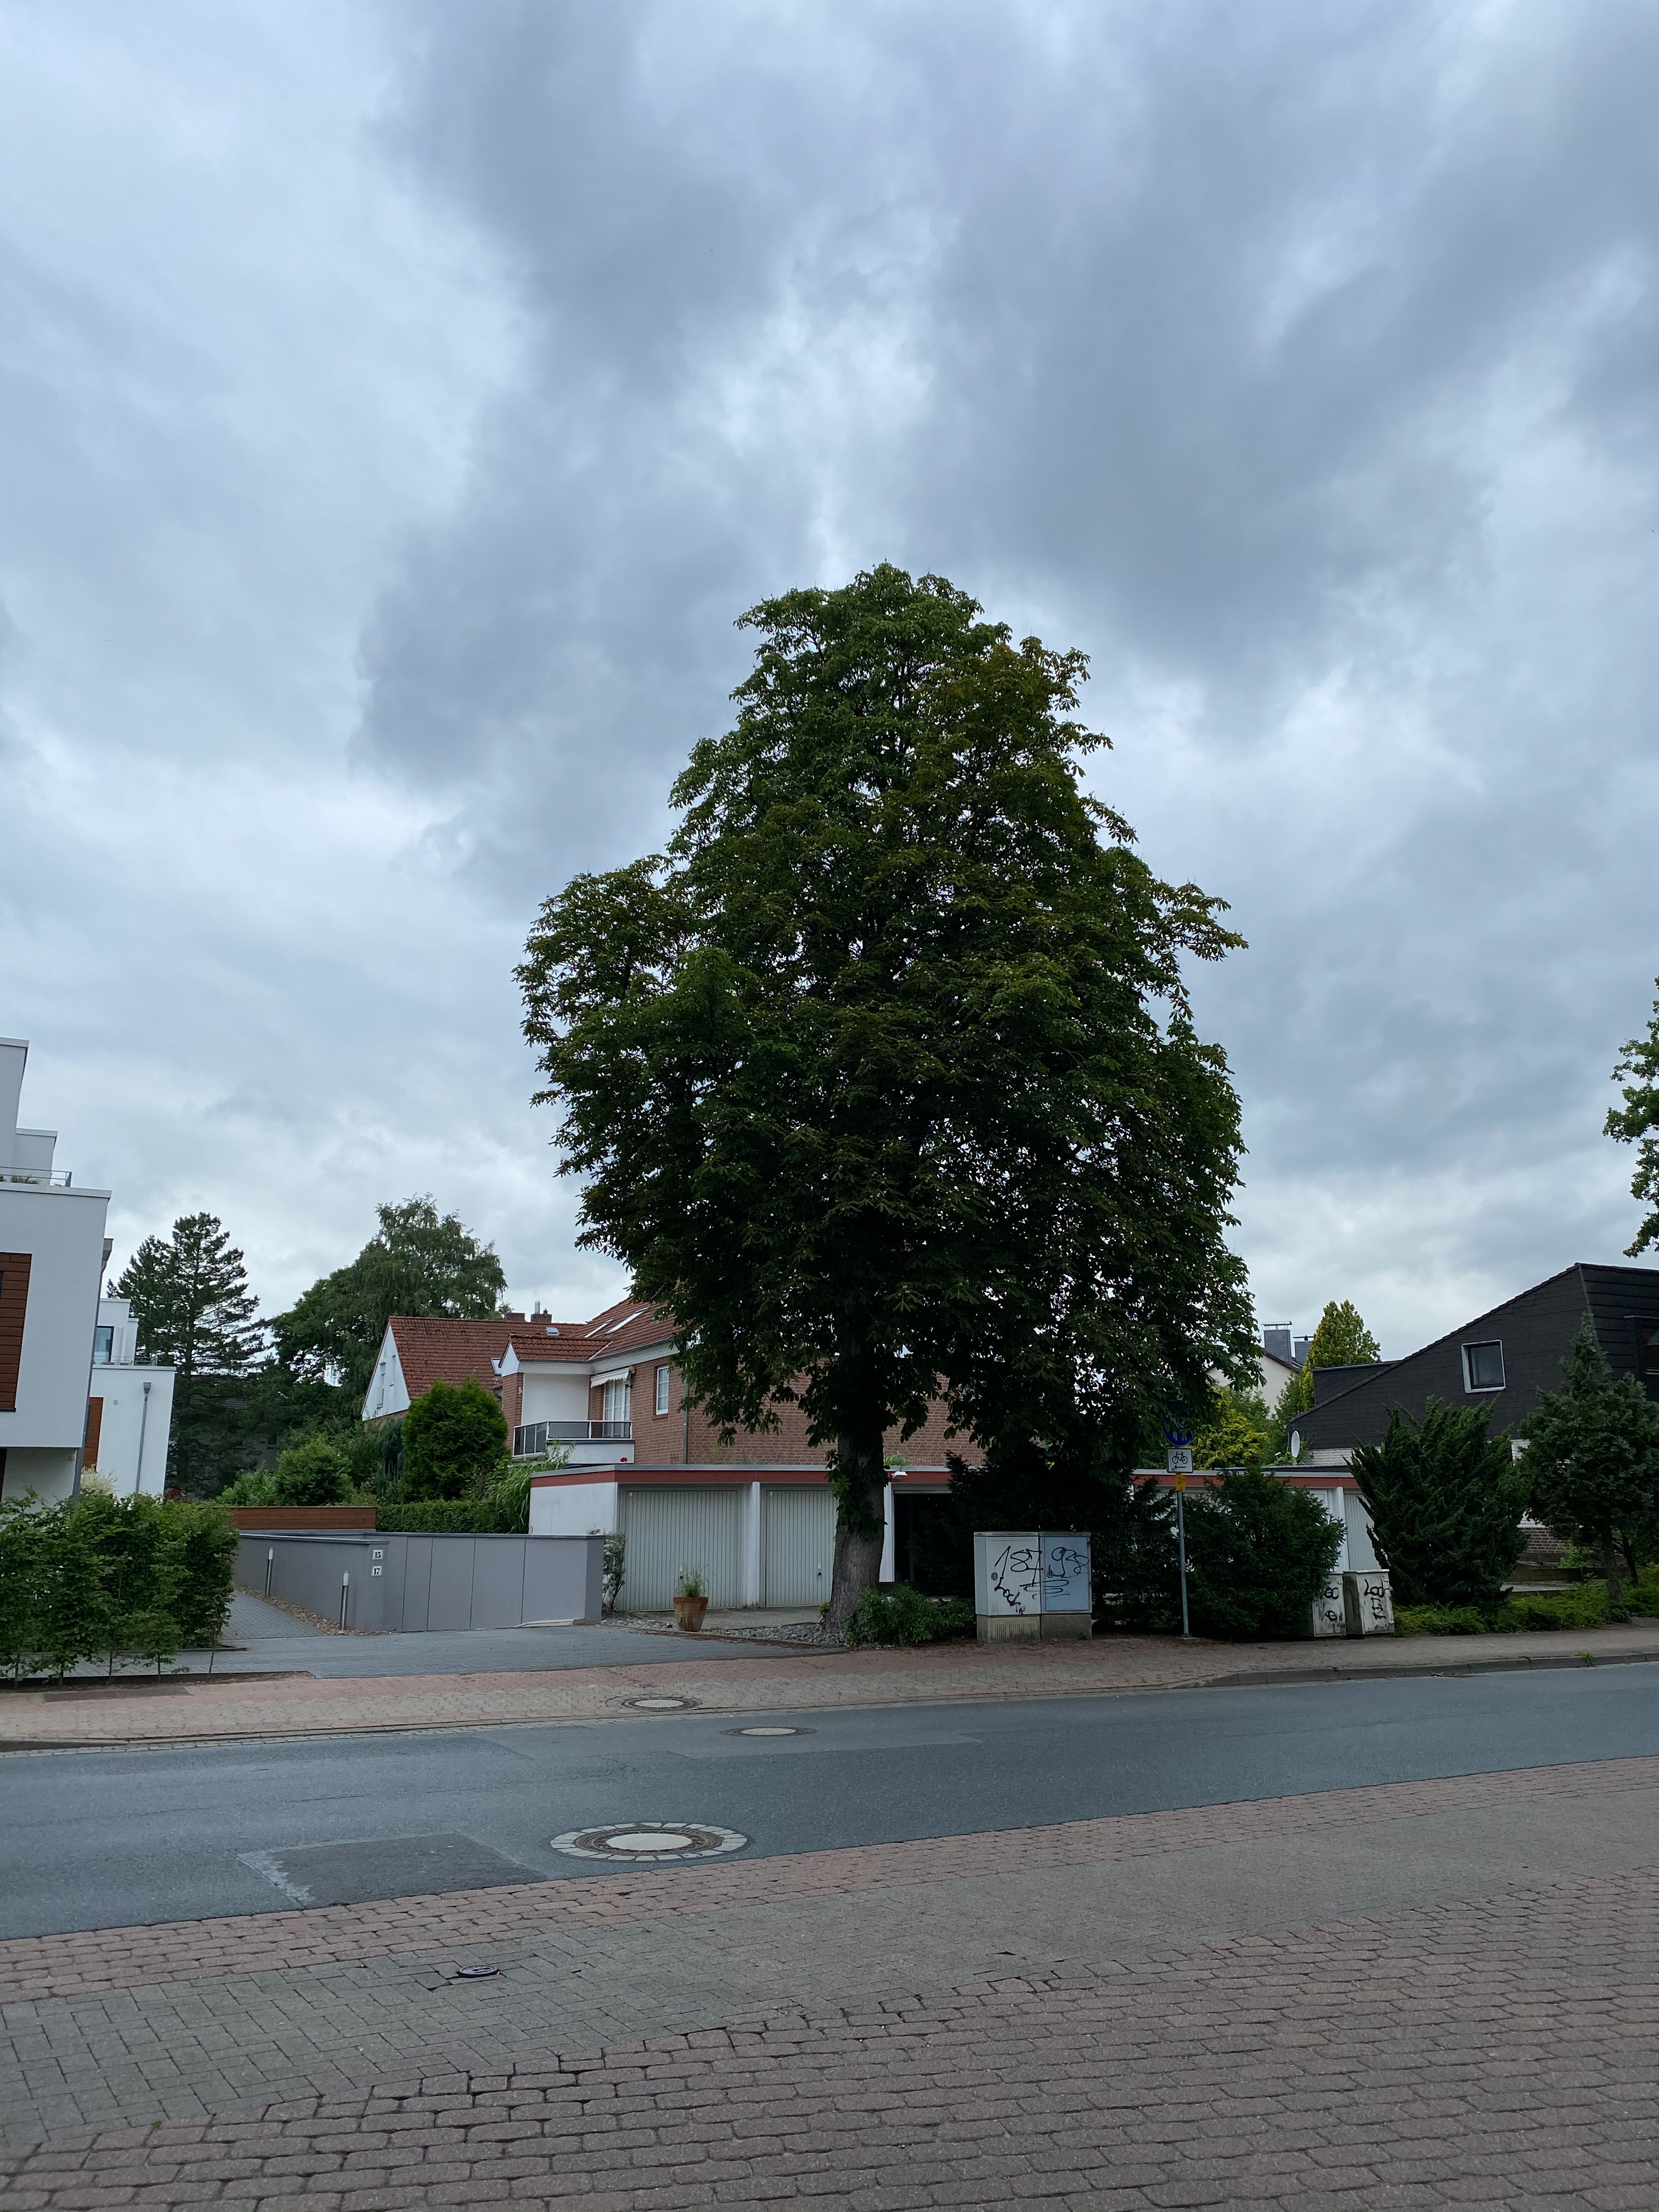tree: (509, 556, 1263, 1634), (105, 1211, 275, 1500), (1518, 1310, 1659, 1616), (329, 1191, 514, 1420), (1601, 975, 1659, 1259), (267, 1266, 364, 1366), (1300, 1299, 1382, 1413)
